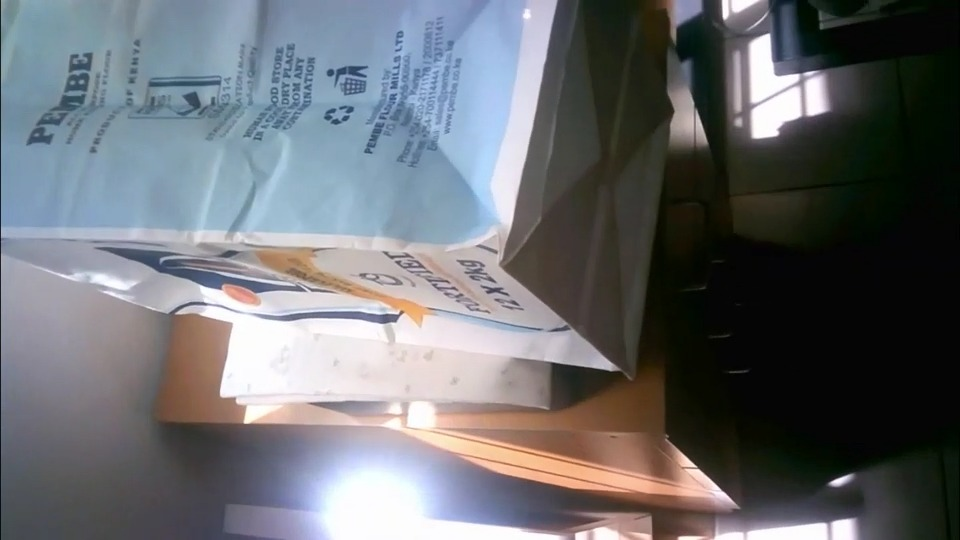wheat_flour_blue_label: (0, 0, 659, 379)
